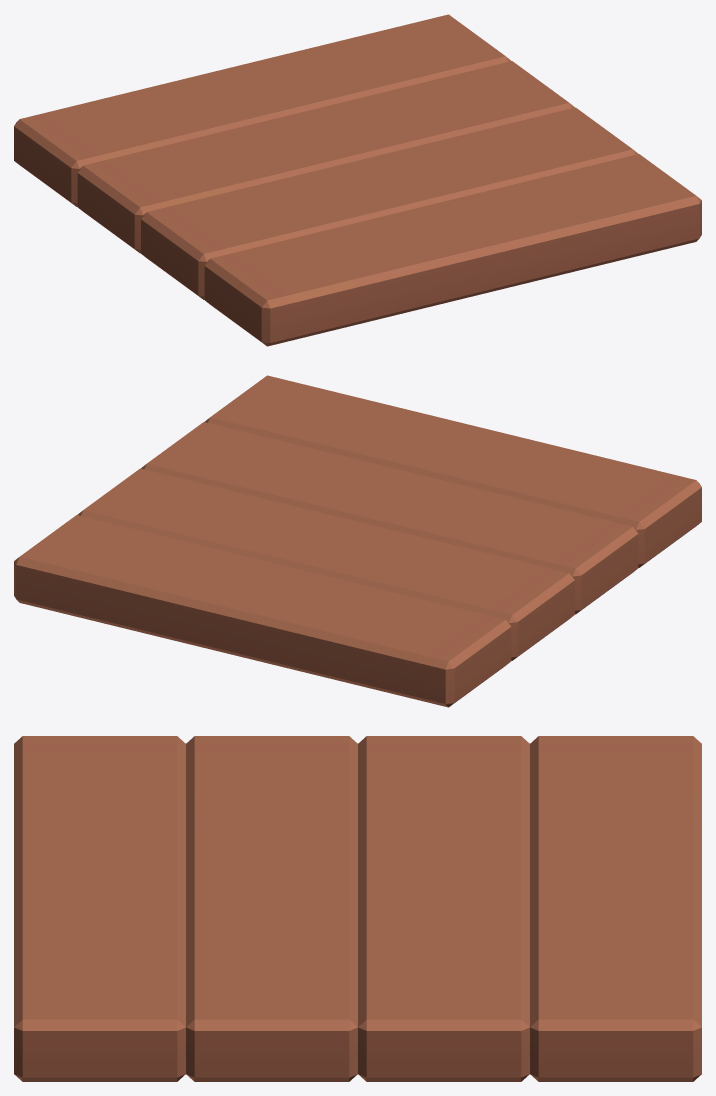
File: res-crate-lid.glb
3 views of the same model, one above another, from view 1: azimuth 30°, elevation 25°; view 2: azimuth 150°, elevation 25°; view 3: azimuth 270°, elevation 25° (orthographic). The views are drawn at different scales.
Visible parts, largest first — view 1: crate_lid; view 2: crate_lid; view 3: crate_lid.
Boxes of the visible parts, box(x1,y1,x2,y2) form: crate_lid: box(14, 14, 701, 346); crate_lid: box(14, 375, 701, 707); crate_lid: box(14, 736, 701, 1081).
Size of the model in its own units: 2 by 0.2 by 2.
Materials: 1 (1 with a texture image).
